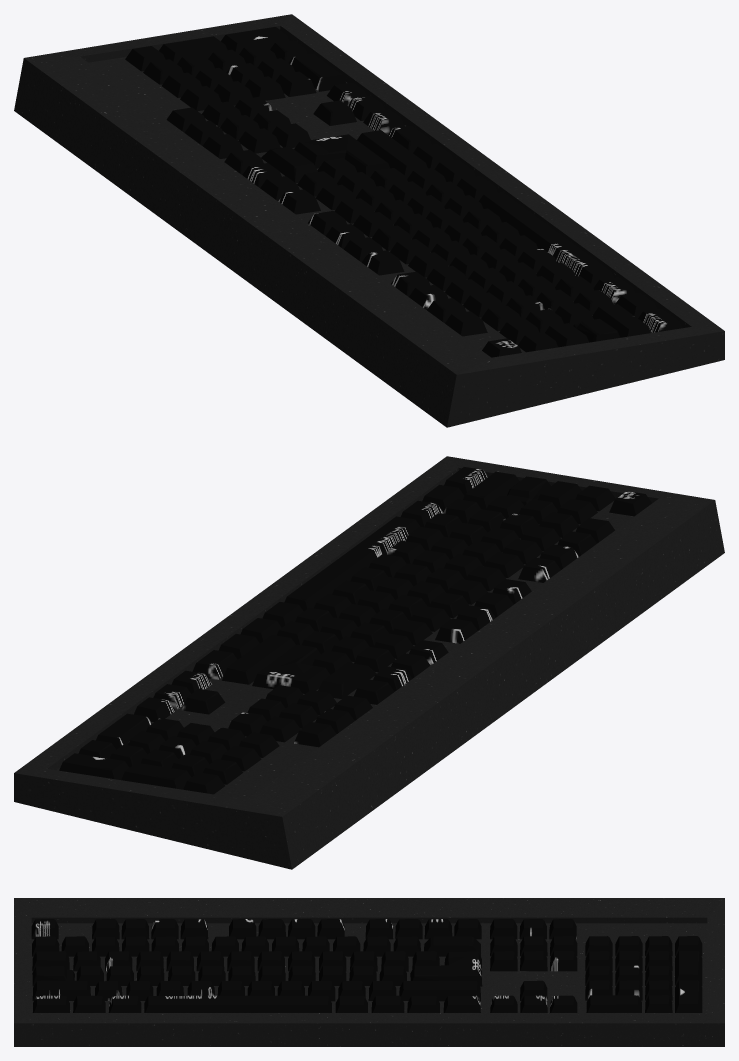
File: keyboard.fbx
The picture shows the model from 3 angles, top to bottom: view 1: azimuth 30°, elevation 25°; view 2: azimuth 150°, elevation 25°; view 3: azimuth 270°, elevation 25°; orthographic projection. The views are drawn at different scales.
Parts seen in each view (by area): view 1: Keyboard, Button; view 2: Keyboard, Button; view 3: Keyboard, Button.
Boxes of the visible parts, <box> form: Keyboard: <box>14,14,724,427</box>; Button: <box>125,27,682,357</box>; Keyboard: <box>14,456,724,869</box>; Button: <box>59,467,651,794</box>; Keyboard: <box>14,898,724,1046</box>; Button: <box>31,919,702,1012</box>.
Size of the model in its own units: 18.87 by 3.41 by 50.88.
